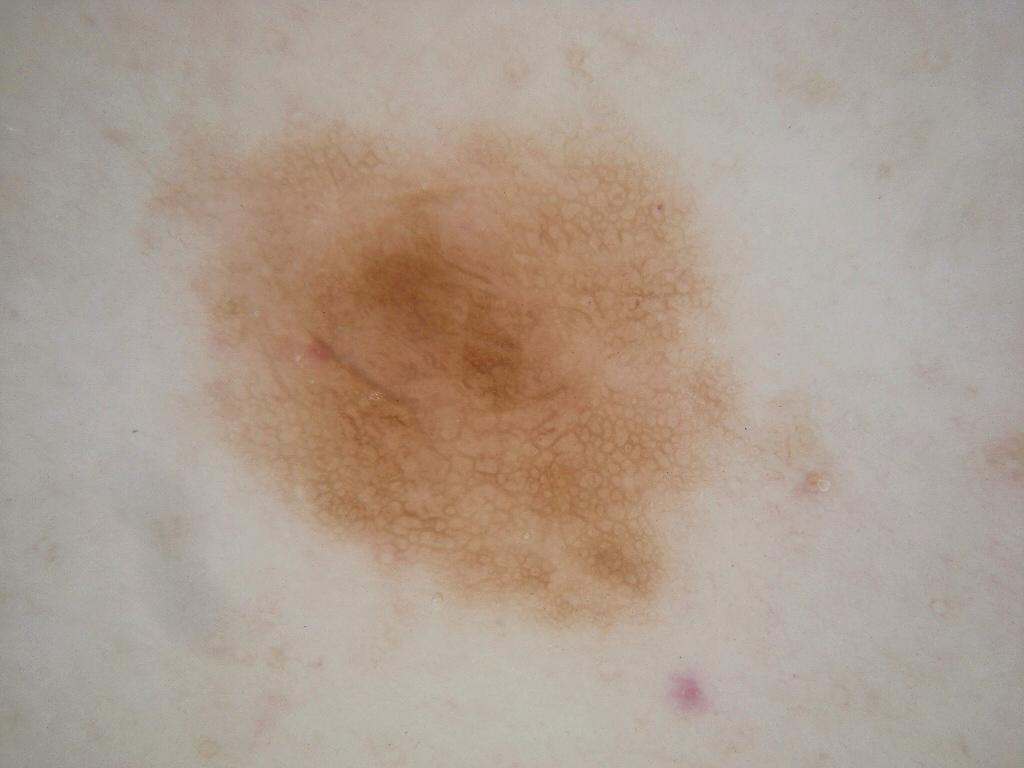Detected Lesion: (167, 105, 834, 724)
